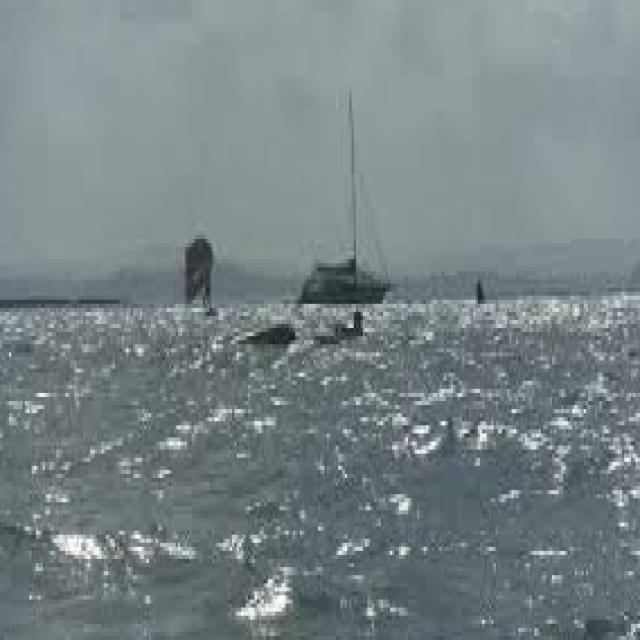fishing boat: (294, 100, 394, 304)
